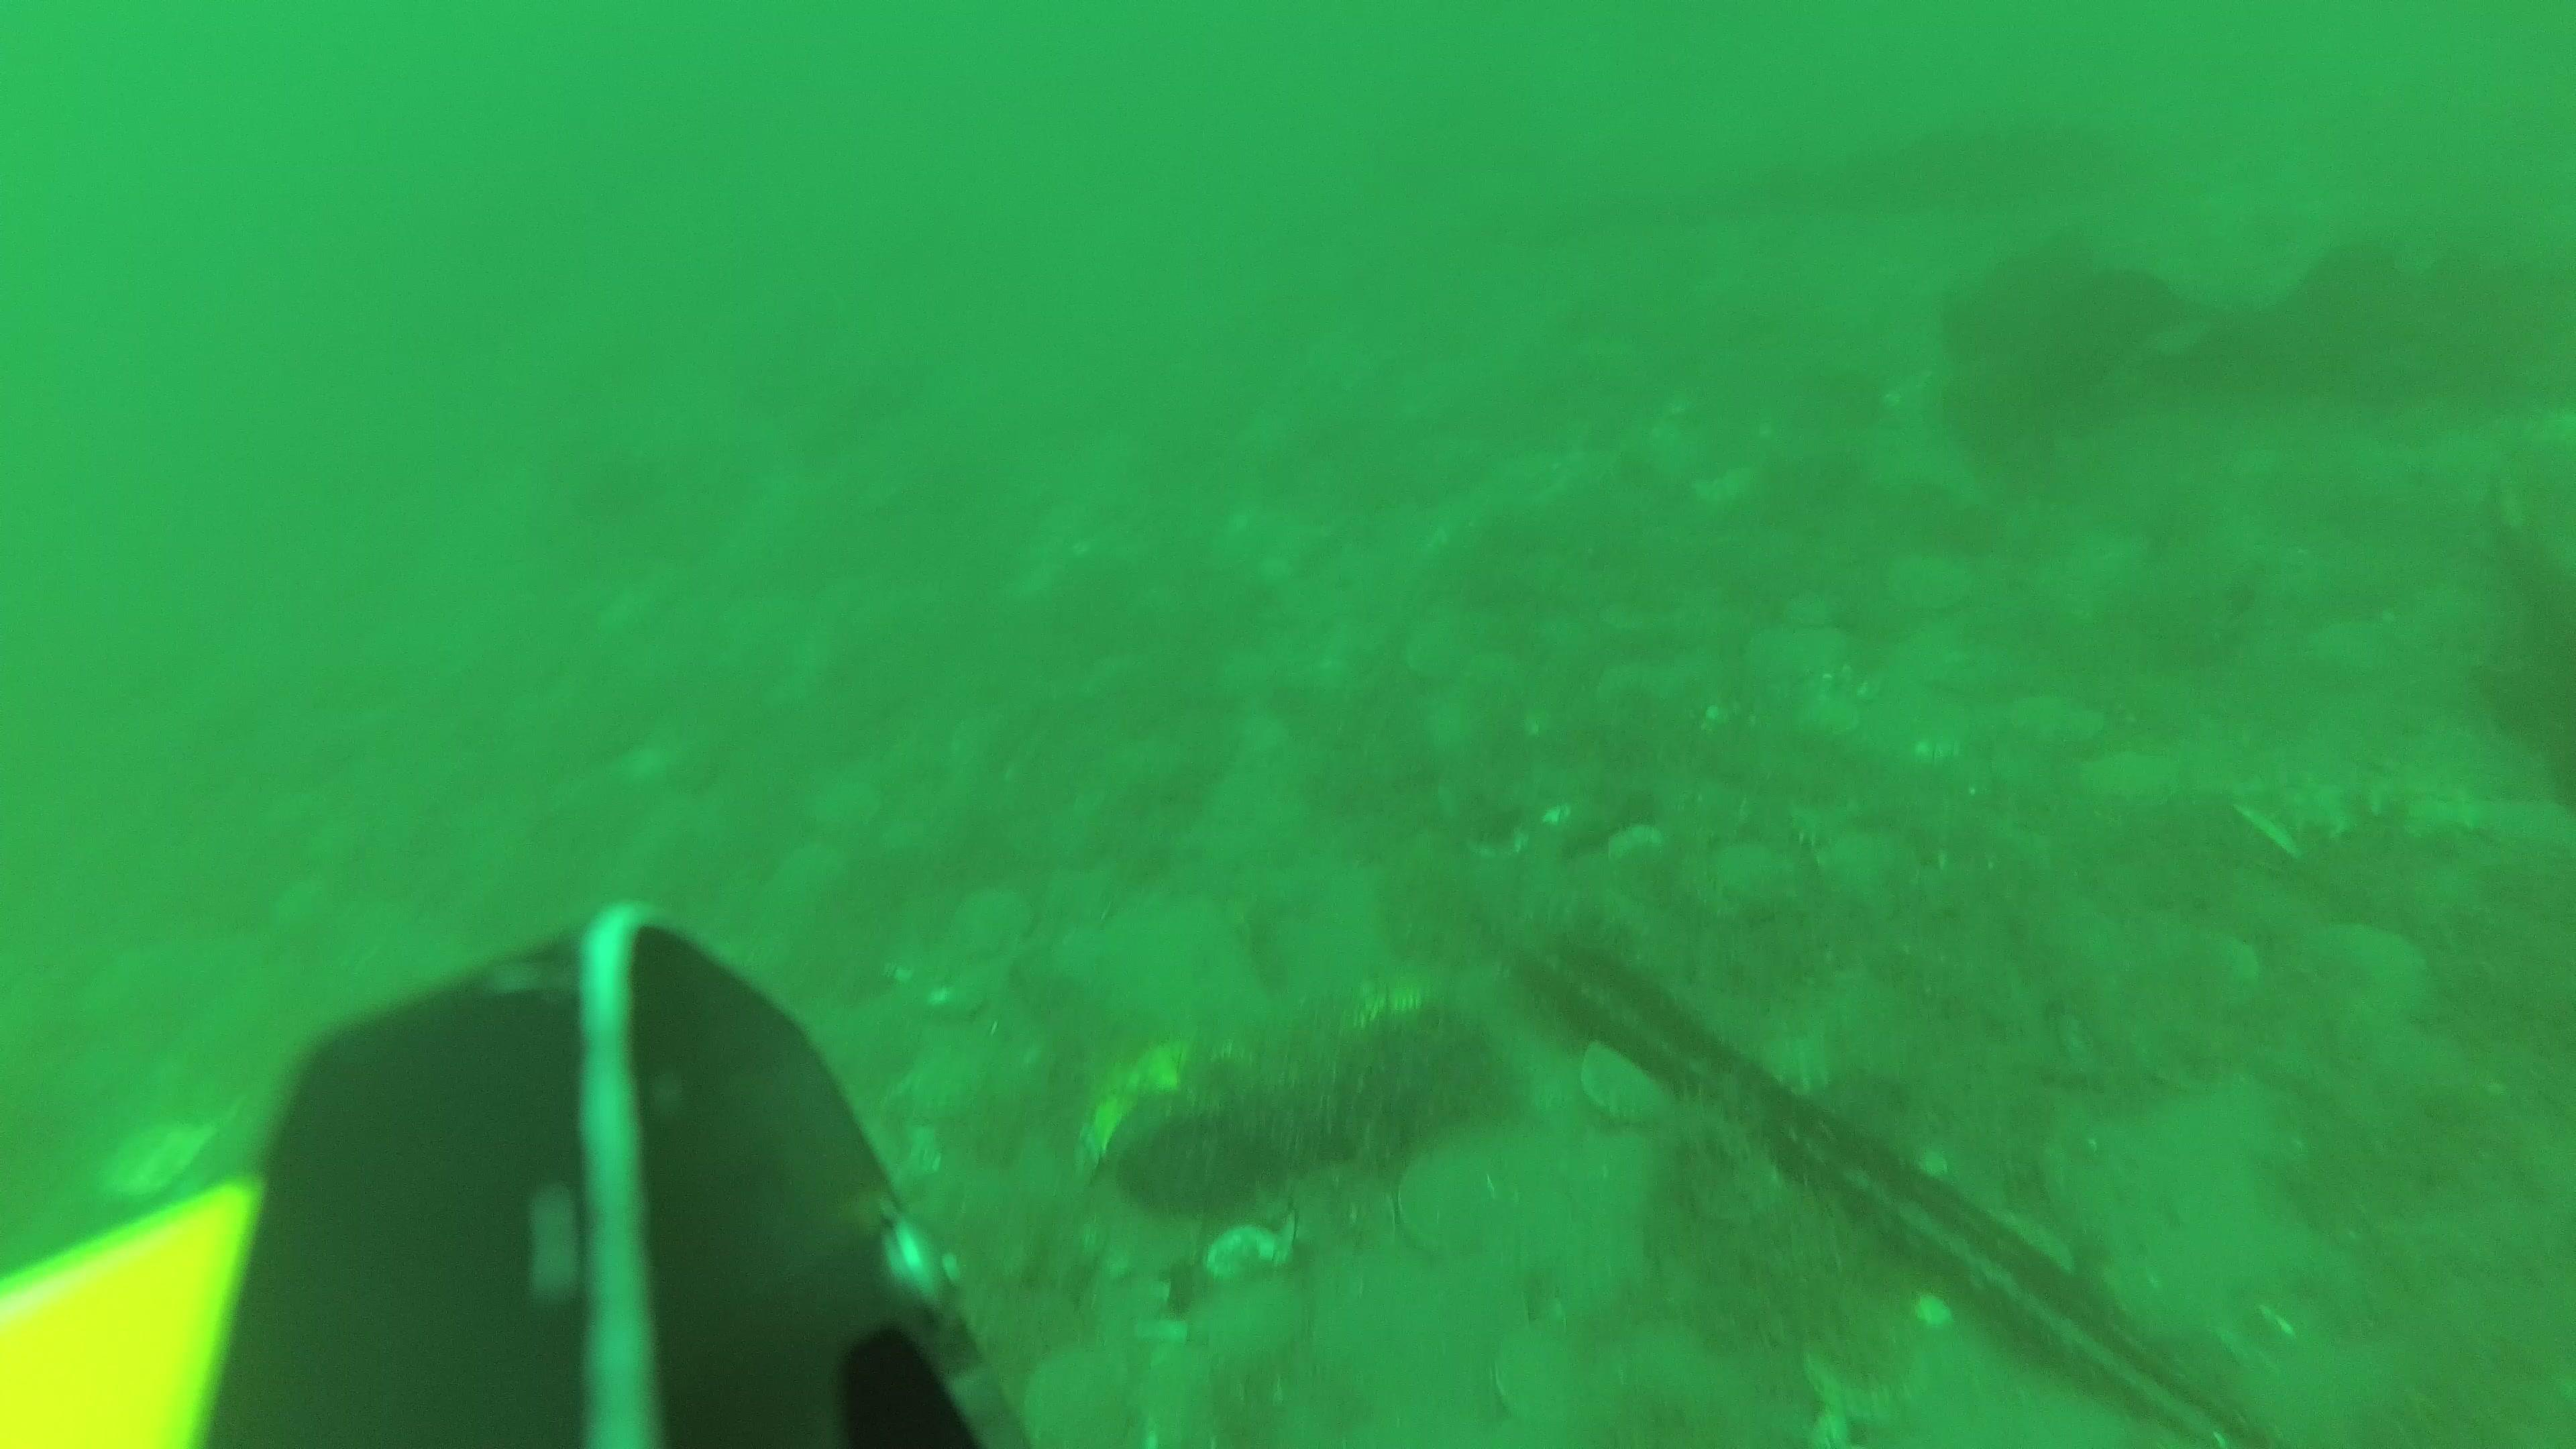scallop: (2296, 916, 2433, 1040), (1398, 1139, 1514, 1263), (1491, 1330, 1608, 1435), (1021, 1348, 1120, 1449), (1194, 1274, 1299, 1366), (1123, 1345, 1215, 1449), (1575, 1039, 1674, 1131), (1697, 840, 1794, 924), (1744, 612, 1845, 688), (1010, 1132, 1095, 1215), (939, 893, 1035, 961), (2003, 692, 2098, 757)
